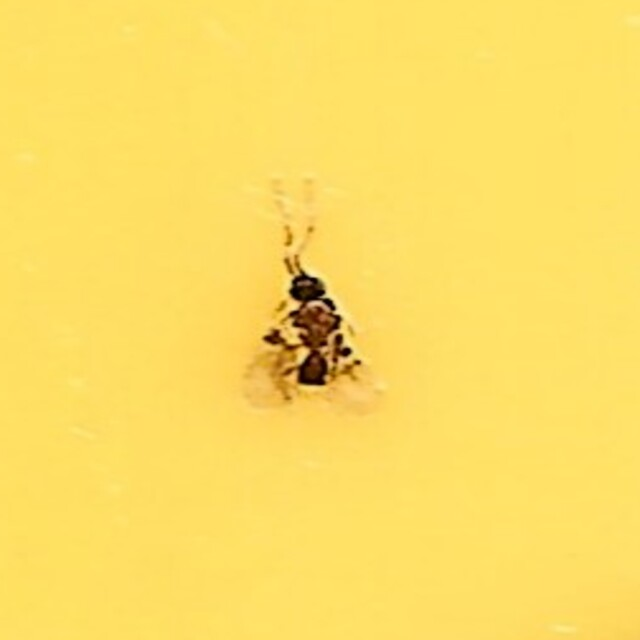Hymenoptera: (254, 207, 386, 433)
